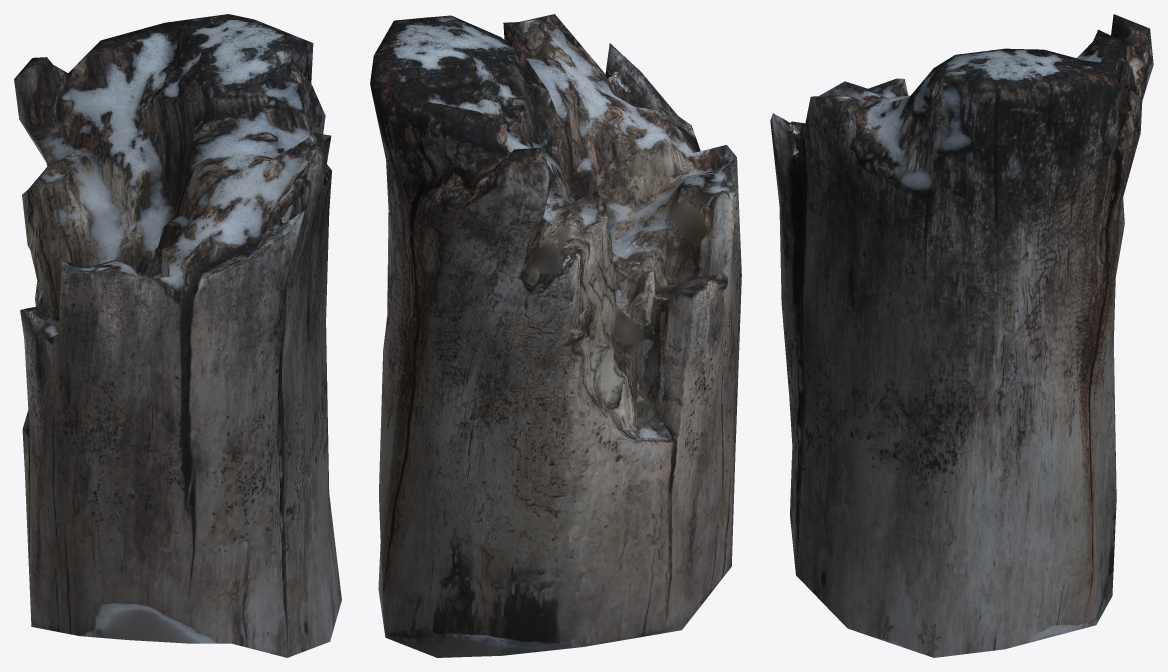
Rendered from Forest_stump_8.FBX.
3 views of the same model, side by side, from view 1: azimuth 30°, elevation 25°; view 2: azimuth 150°, elevation 25°; view 3: azimuth 270°, elevation 25° (orthographic). The views are drawn at different scales.
Parts seen in each view (by area): view 1: Forest_stump_8; view 2: Forest_stump_8; view 3: Forest_stump_8.
Boxes of the visible parts, x1,y1,x2,y2 form: Forest_stump_8: (14,14,341,657); Forest_stump_8: (370,14,741,657); Forest_stump_8: (770,14,1153,657).
Bounding box in the file's own units: 0.7046 × 1.23 × 0.7577.
1 material, 1 textured.
